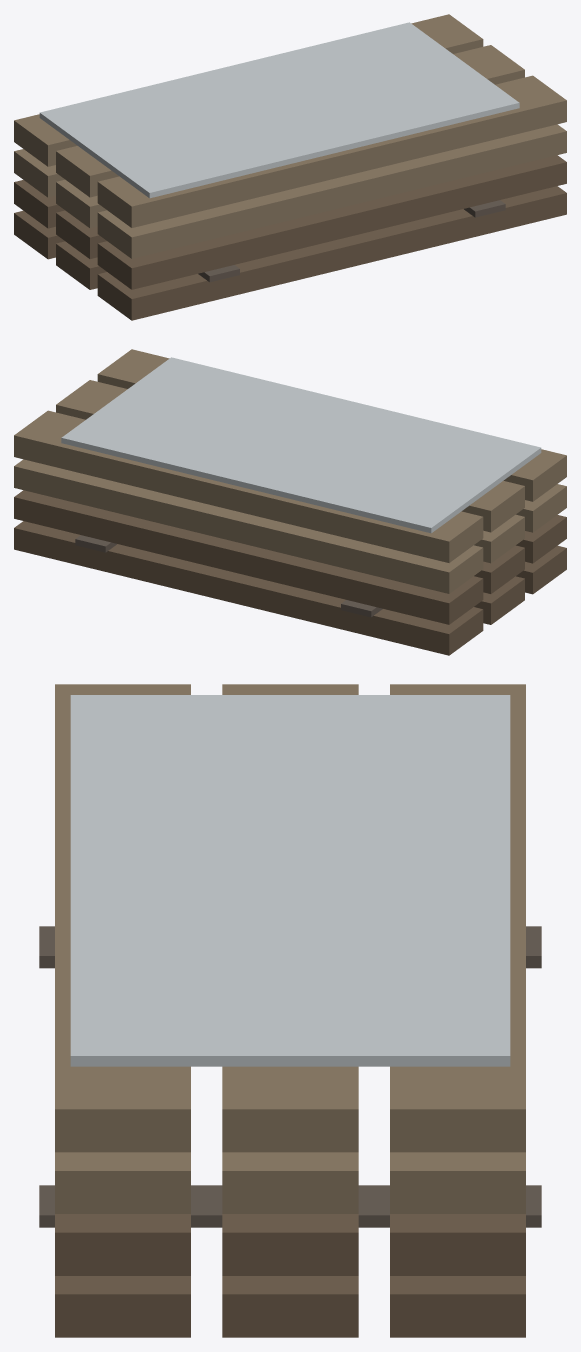
The model's file is lumber_stack.glb.
3 views of the same model, one above another, from view 1: azimuth 30°, elevation 25°; view 2: azimuth 150°, elevation 25°; view 3: azimuth 270°, elevation 25° (orthographic). The views are drawn at different scales.
Visible parts, largest first — view 1: lumber_stack; view 2: lumber_stack; view 3: lumber_stack.
Boxes of the visible parts, box(x1,y1,x2,y2) form: lumber_stack: box(14, 14, 566, 320); lumber_stack: box(14, 349, 566, 655); lumber_stack: box(39, 684, 541, 1337).
Bounding box in the file's own units: 4 × 1.05 × 2.
